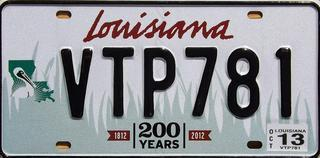placa de veiculo: (5, 1, 314, 157)
